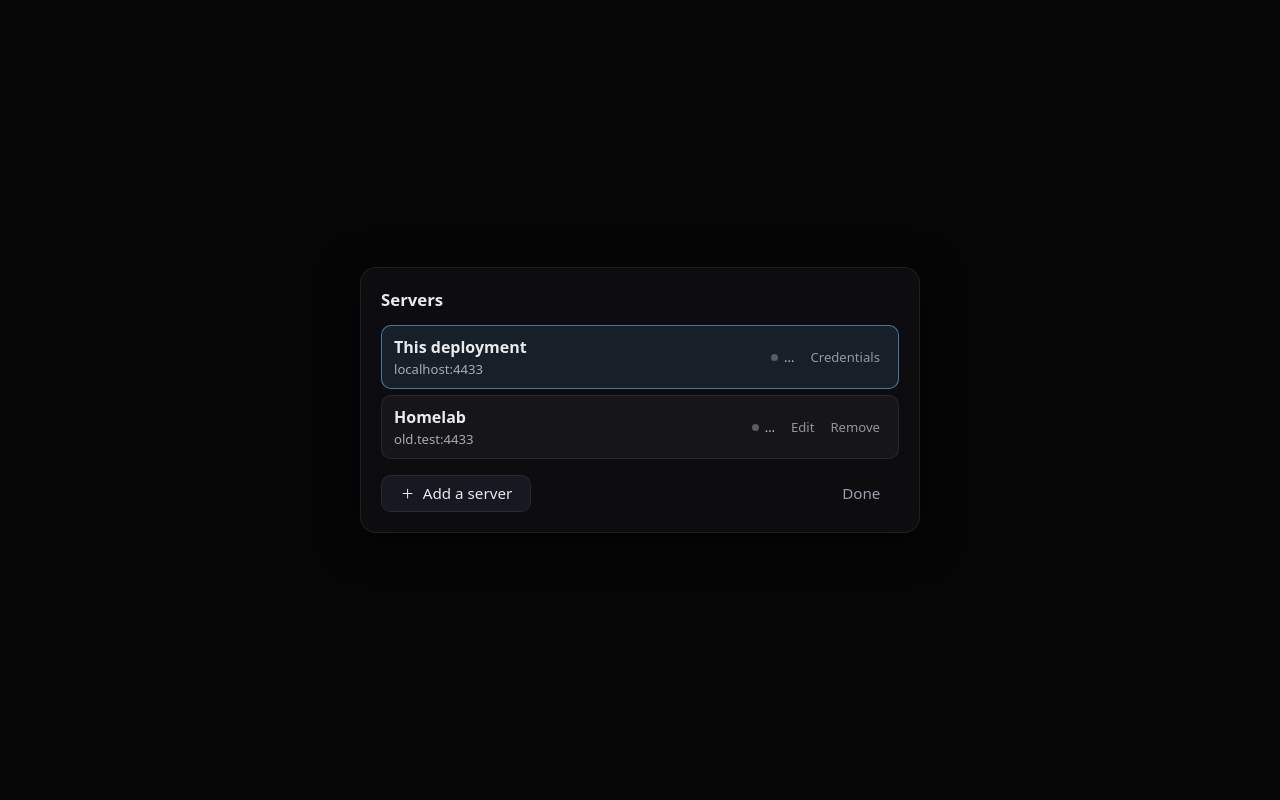
Test case: ServerPickerPanel probe after an edit › never lets the old target's late verdict overwrite the new one
The width and height of the screenshot is (1280, 800).
Click the button with aria-label "Edit Homelab": coordinates (803, 427) [791,418,814,436]
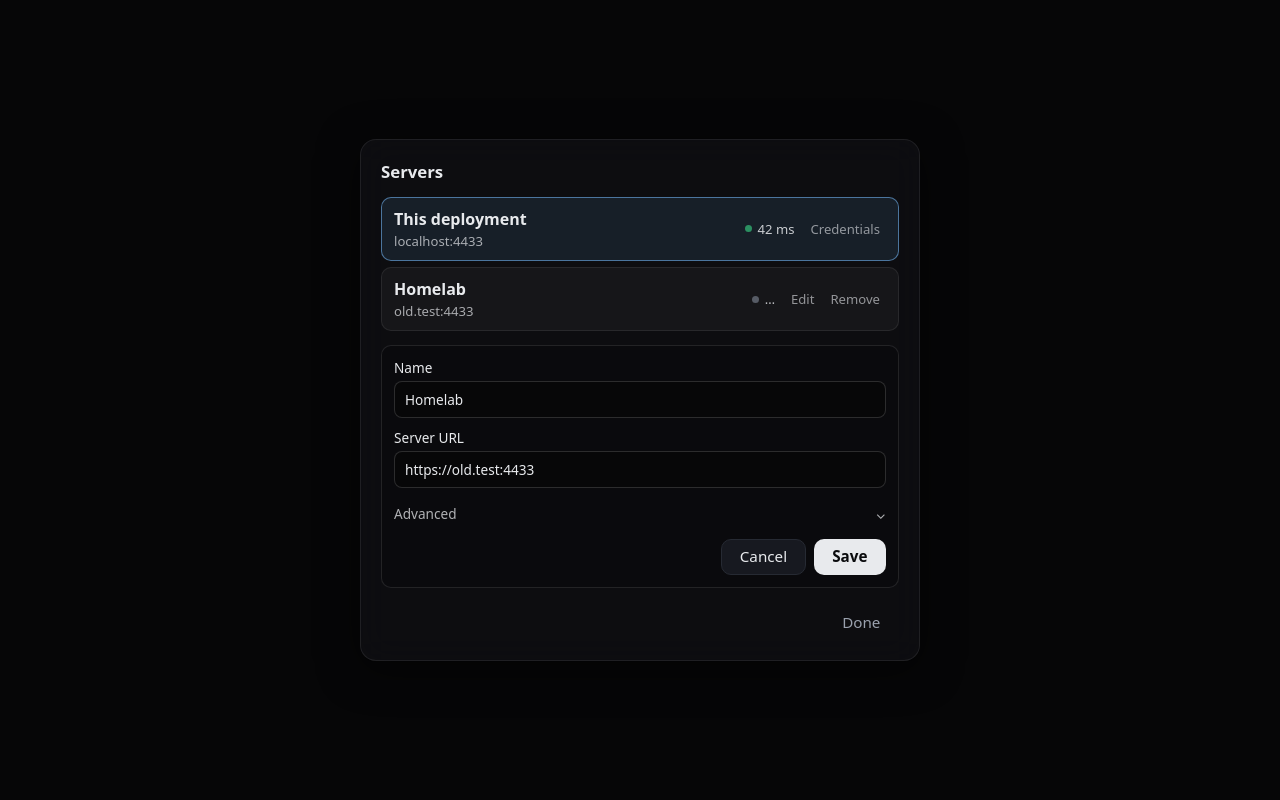
Replace the text in the field labelled "Server URL" with "https://new.test:4433": coordinates (640, 469) [394,451,886,488]
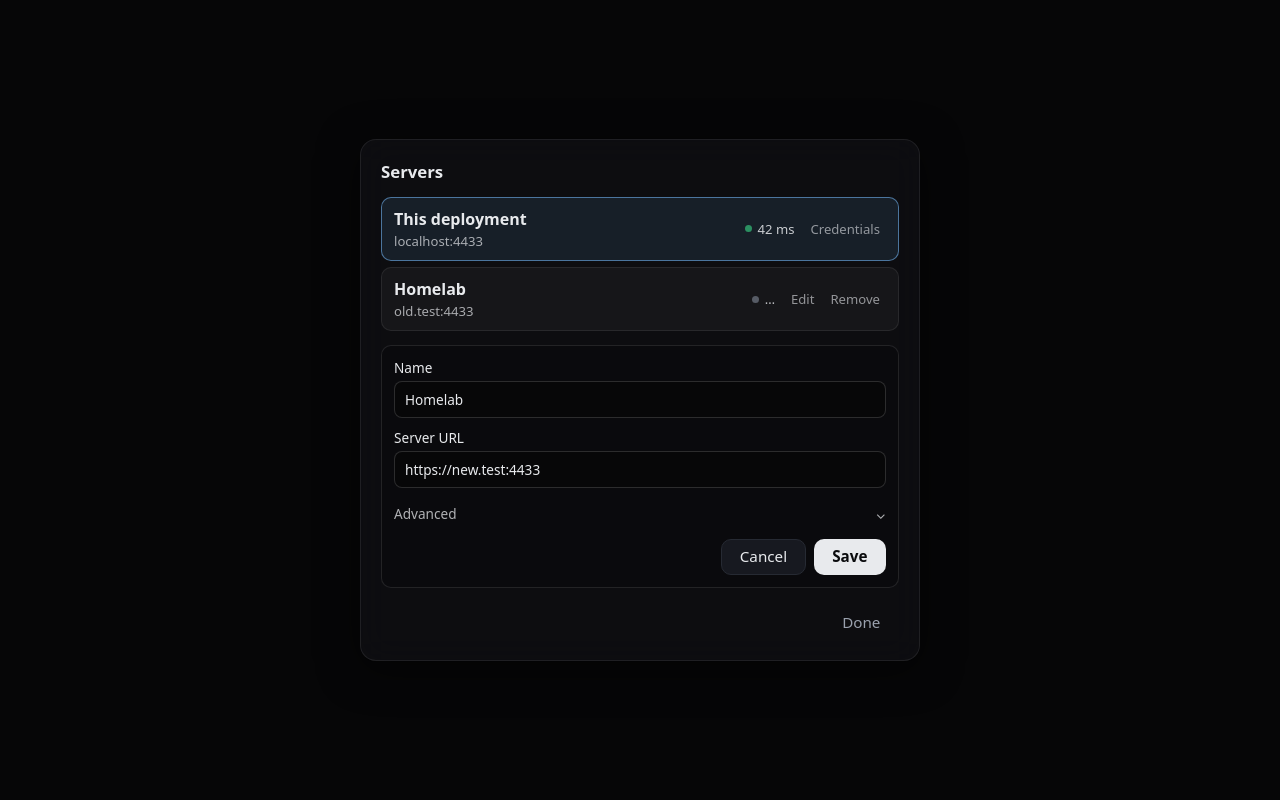
Click the button "Save": coordinates (850, 557) [814,539,886,575]
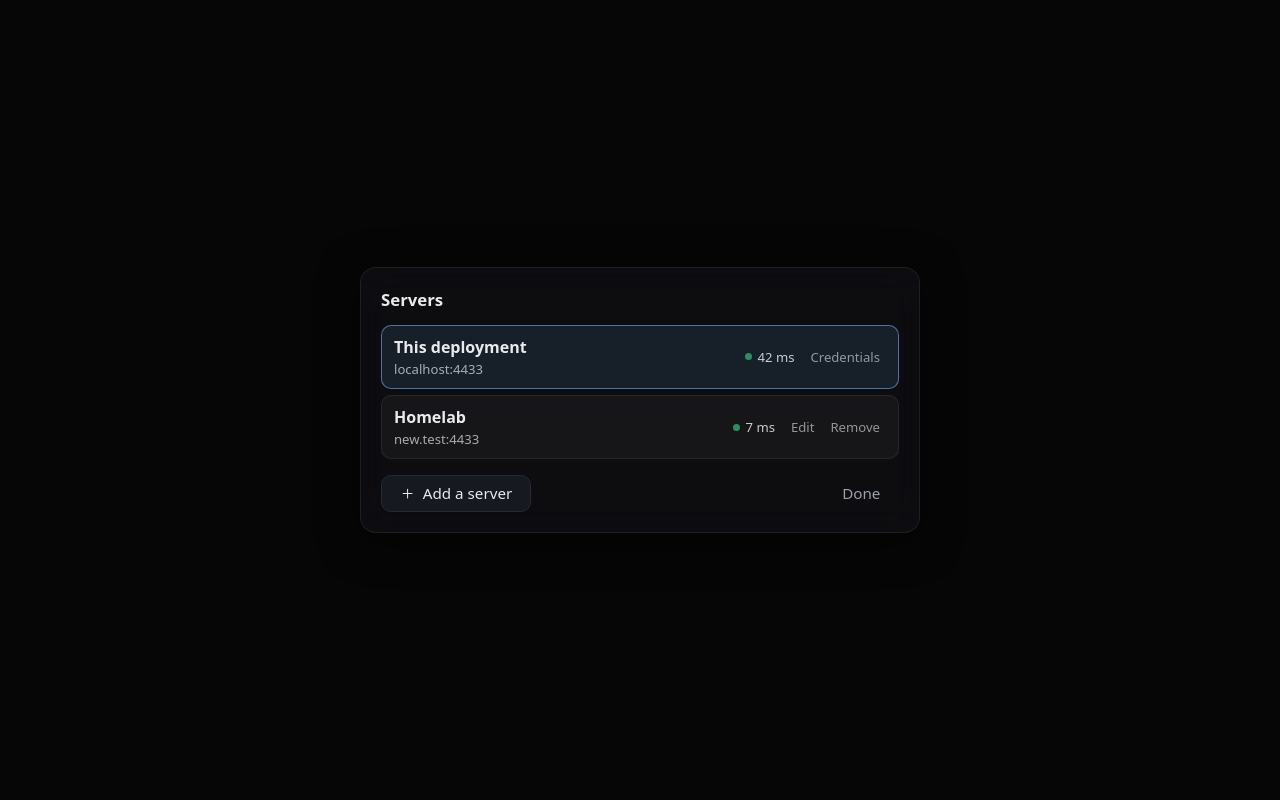
Check: the text "7 ms" is shown, box [732,418,775,436]
